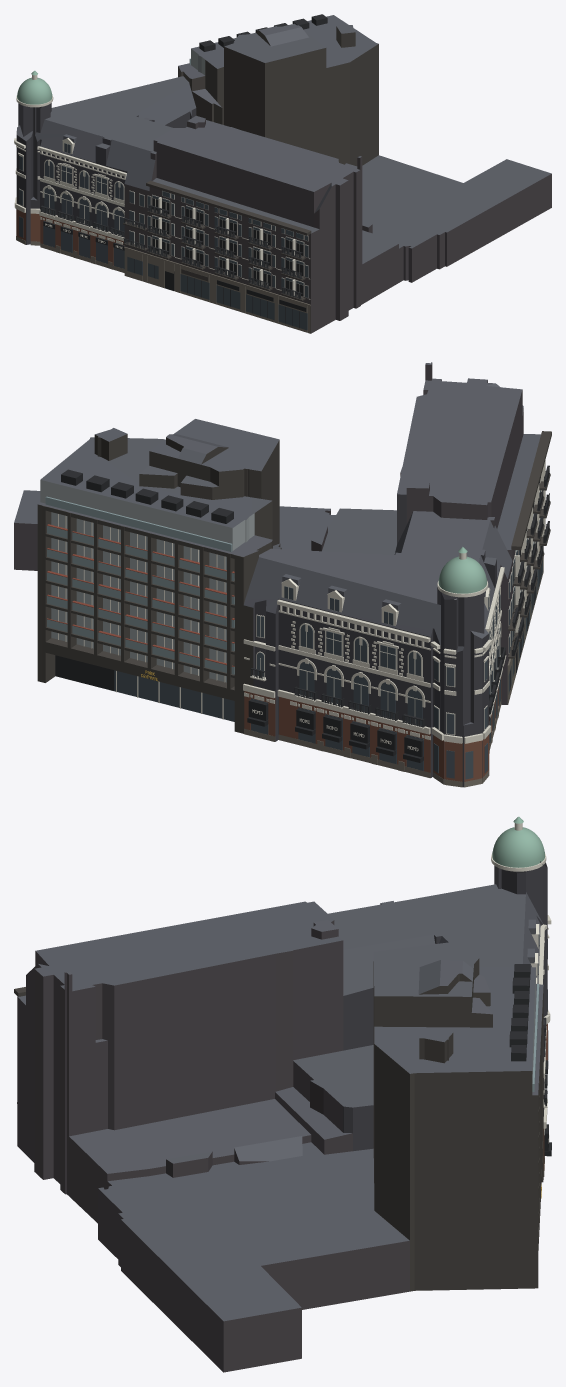
Rendered from park-centraal-stadhouderskade.glb.
The picture shows the model from 3 angles, top to bottom: view 1: azimuth 30°, elevation 25°; view 2: azimuth 150°, elevation 25°; view 3: azimuth 270°, elevation 25°; orthographic projection. The views are drawn at different scales.
Visible parts, largest first — view 1: park-centraal-stadhouderskade; view 2: park-centraal-stadhouderskade; view 3: park-centraal-stadhouderskade.
Boxes of the visible parts, x1,y1,x2,y2 form: park-centraal-stadhouderskade: (14, 14, 551, 333); park-centraal-stadhouderskade: (14, 362, 551, 787); park-centraal-stadhouderskade: (14, 816, 551, 1372).
Size of the model in its own units: 79.1 by 29.64 by 56.36.
